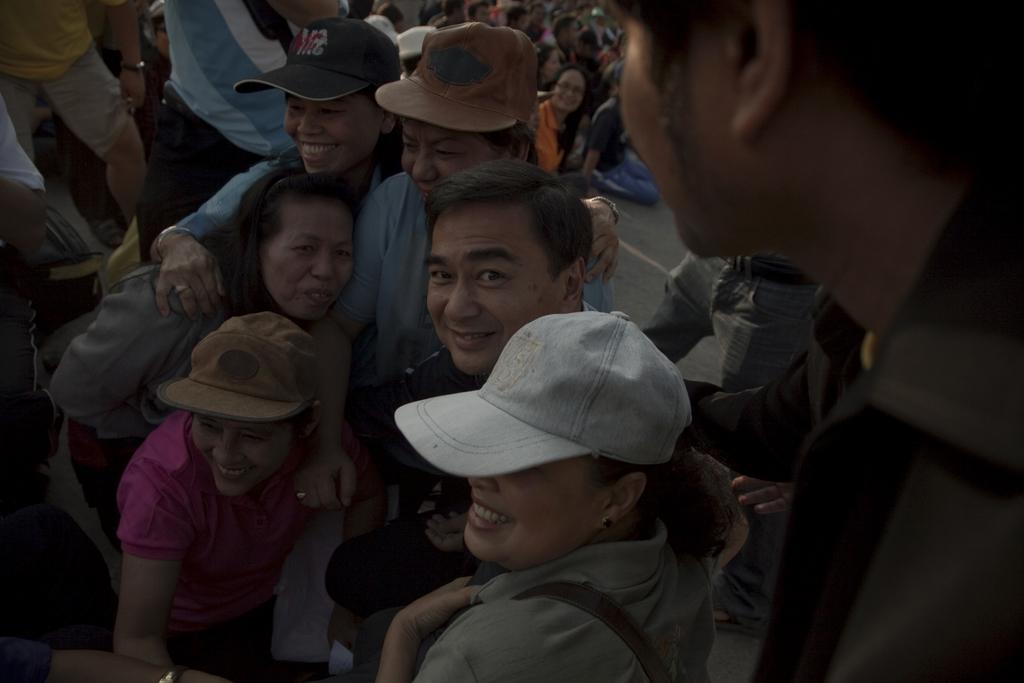Hat: (392, 309, 695, 478), (374, 20, 532, 135), (157, 310, 316, 423), (234, 15, 404, 104)
